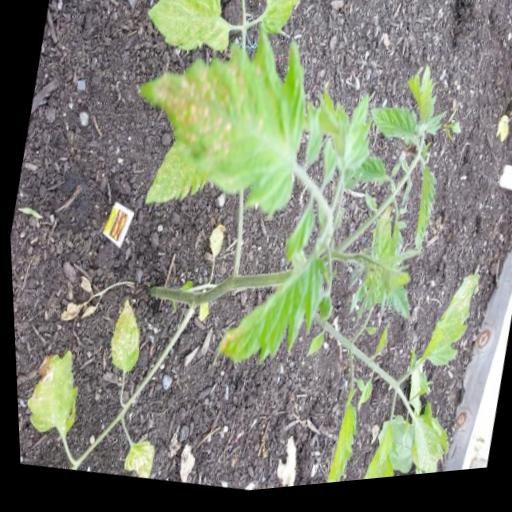Bacterial Spot: (108, 26, 339, 246), (202, 233, 334, 399), (404, 265, 485, 388), (388, 398, 455, 484)
